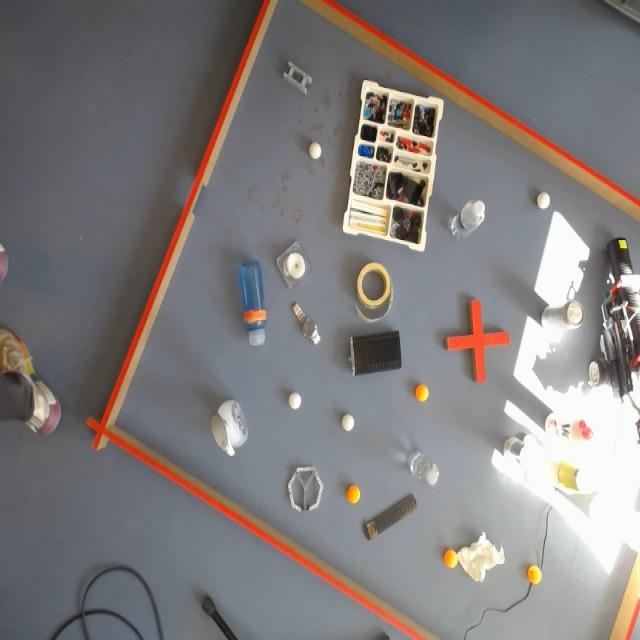orange: (413, 383, 431, 404), (346, 483, 360, 505), (527, 564, 541, 584), (444, 548, 456, 568)
robot: (588, 237, 640, 443)
robot-front: (616, 238, 628, 252)
white: (534, 189, 552, 212), (287, 391, 303, 413), (340, 413, 356, 434), (310, 142, 322, 158)
